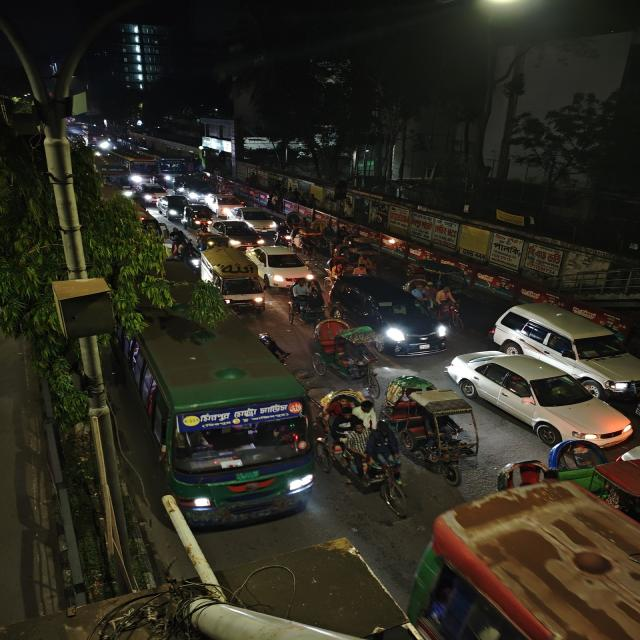bus: (124, 327, 315, 523), (92, 156, 133, 190), (124, 152, 158, 186), (157, 154, 188, 182)
car: (446, 350, 638, 451), (485, 302, 639, 391), (332, 274, 448, 356), (250, 244, 312, 286), (208, 220, 263, 248), (232, 206, 279, 232), (173, 175, 216, 202), (210, 193, 247, 213), (138, 182, 168, 204), (162, 194, 184, 222)
cng: (178, 205, 210, 231)
human_hauler: (197, 247, 266, 313)
rickshaw: (384, 374, 482, 488), (316, 392, 406, 511), (309, 315, 381, 380), (419, 280, 466, 326), (286, 277, 325, 325), (326, 247, 376, 277), (290, 227, 319, 257)
